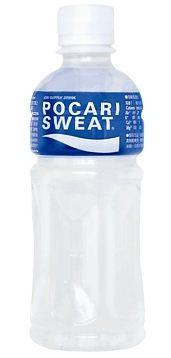POCARI SWEAT: (24, 3, 150, 350)
